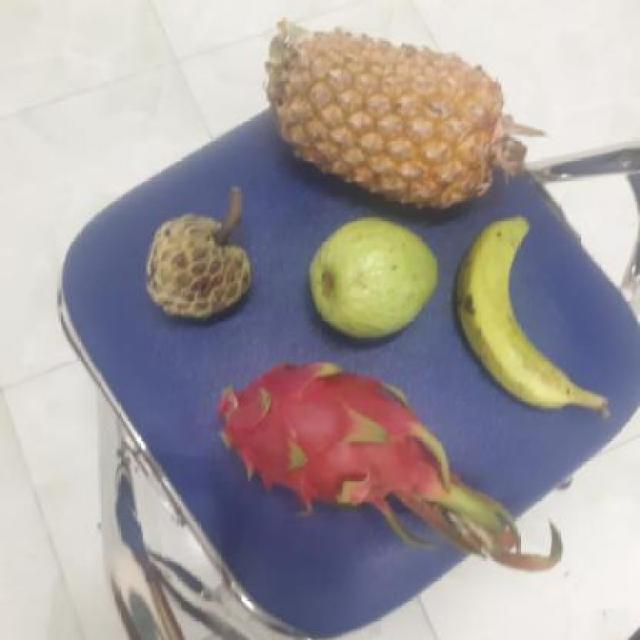banana: (452, 218, 582, 416)
dragon fruit: (207, 360, 442, 508)
guava: (304, 219, 436, 339)
pineapple: (266, 34, 505, 211)
sugar apple: (140, 210, 251, 322)
